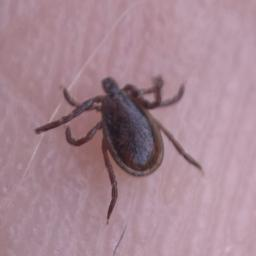Ixodes scapularis: (35, 75, 204, 219)
